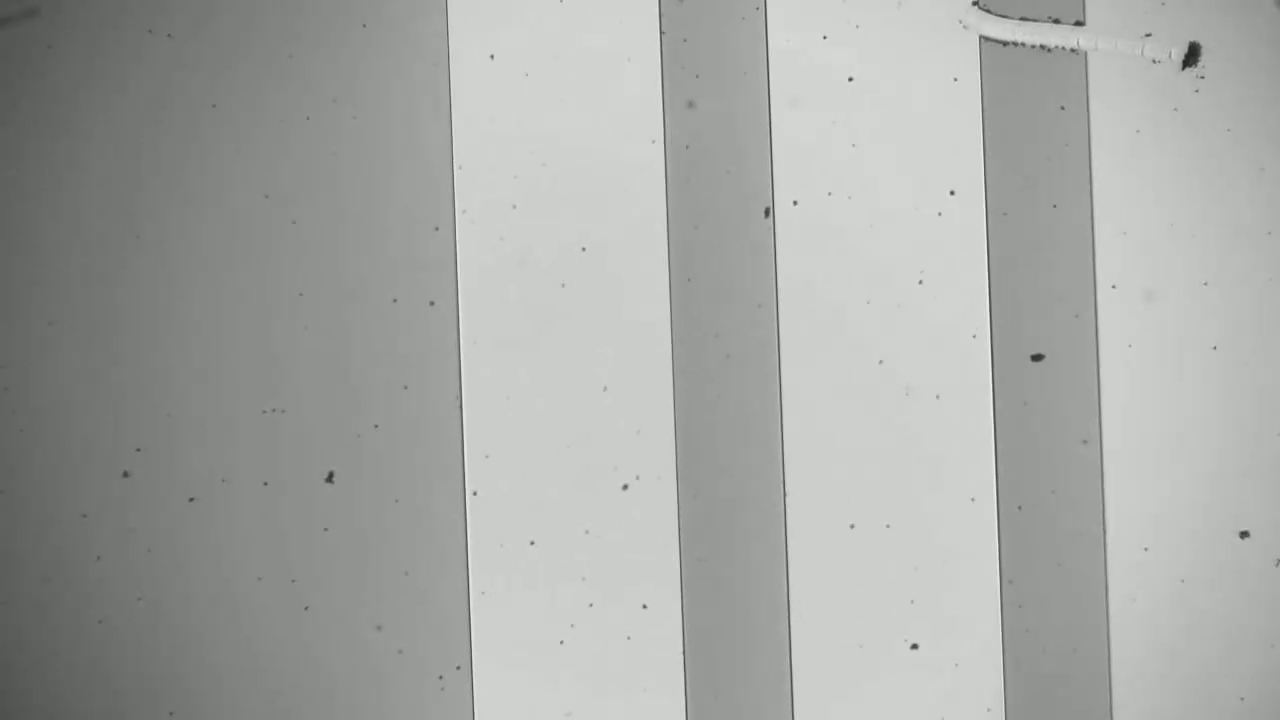Short_circuit: (945, 1, 1125, 88)
